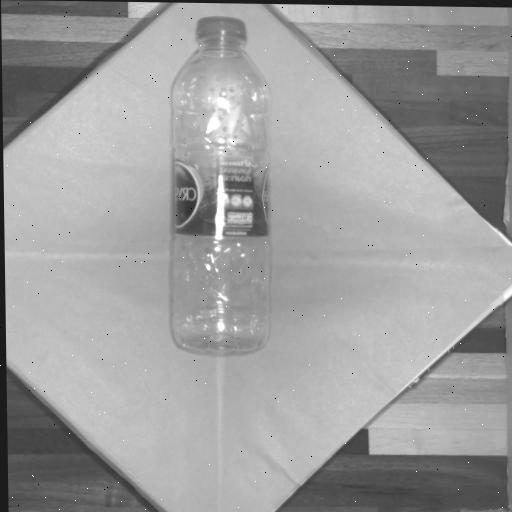bottle: (152, 3, 287, 369)
